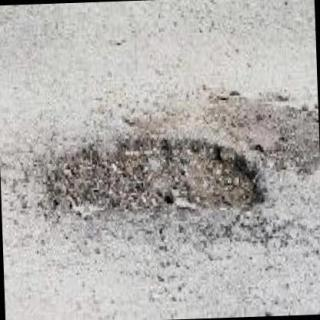pothole: (51, 141, 263, 214)
